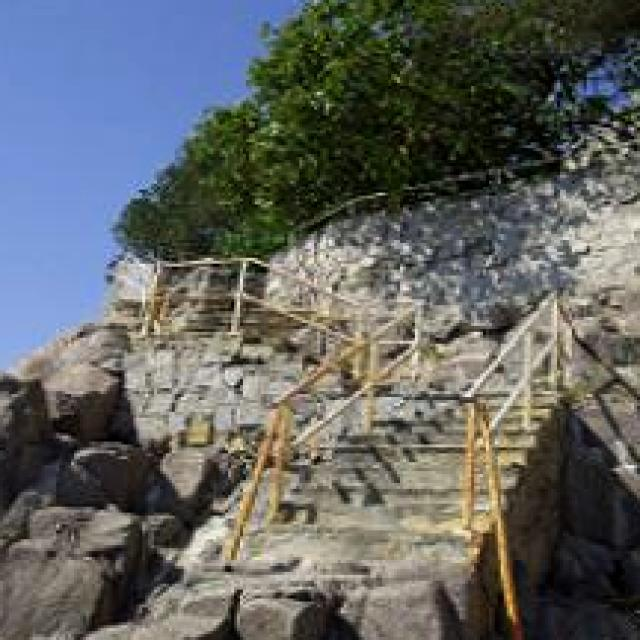upstair: (253, 339, 549, 558)
